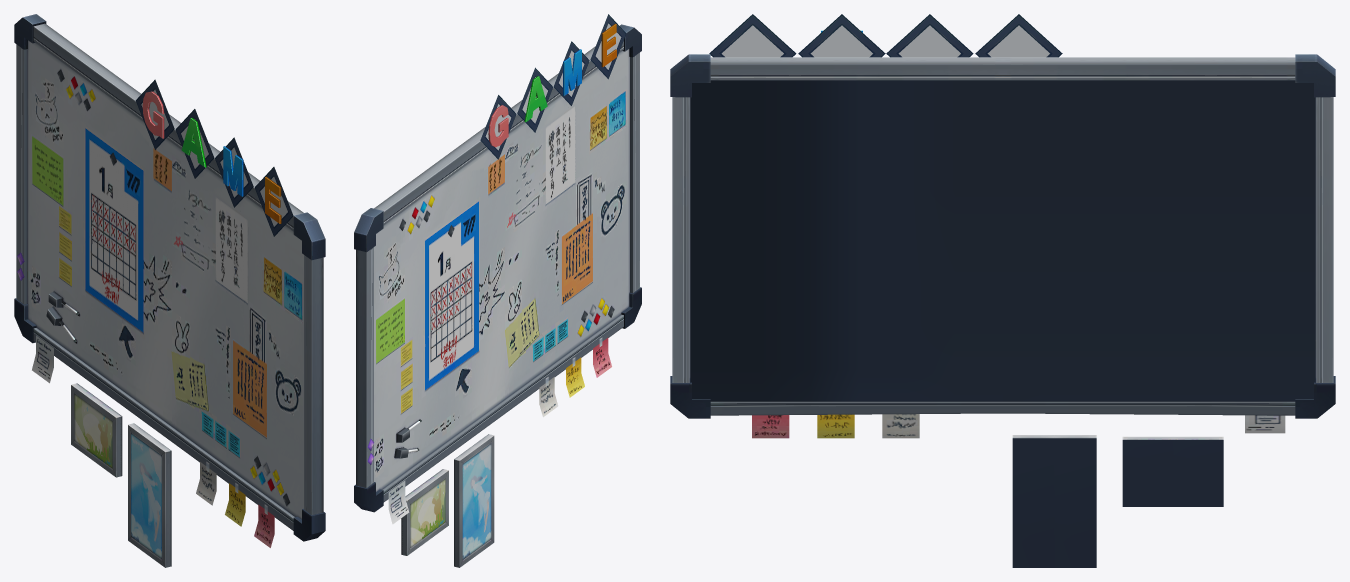
The model's file is my_gamedevdept_01_whiteboard_01.glb.
3 views of the same model, side by side, from view 1: azimuth 30°, elevation 25°; view 2: azimuth 150°, elevation 25°; view 3: azimuth 270°, elevation 25° (orthographic). The views are drawn at different scales.
Visible parts, largest first — view 1: my_gamedevdept_01_whiteboard_01; view 2: my_gamedevdept_01_whiteboard_01; view 3: my_gamedevdept_01_whiteboard_01.
Boxes of the visible parts, x1,y1,x2,y2 form: my_gamedevdept_01_whiteboard_01: [14, 14, 325, 567]; my_gamedevdept_01_whiteboard_01: [354, 14, 641, 567]; my_gamedevdept_01_whiteboard_01: [670, 14, 1335, 567].
Bounding box in the file's own units: 0.00064 × 0.0157 × 0.0173.
Materials: 1 (1 with a texture image).
